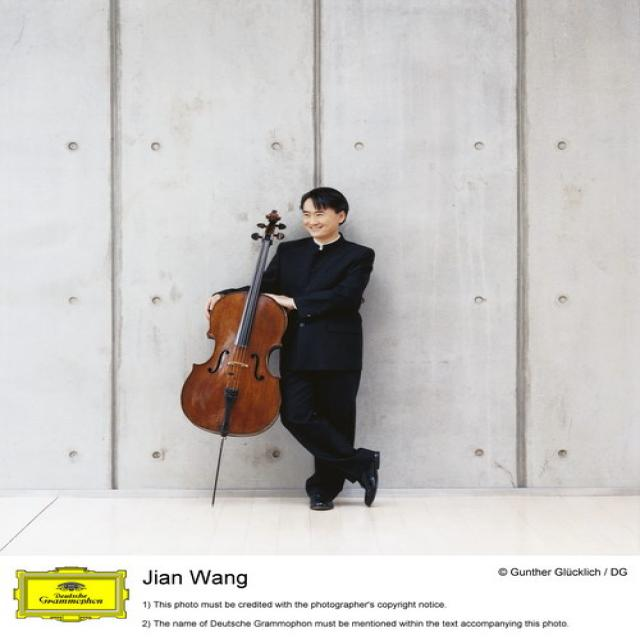cello: (174, 208, 297, 442)
